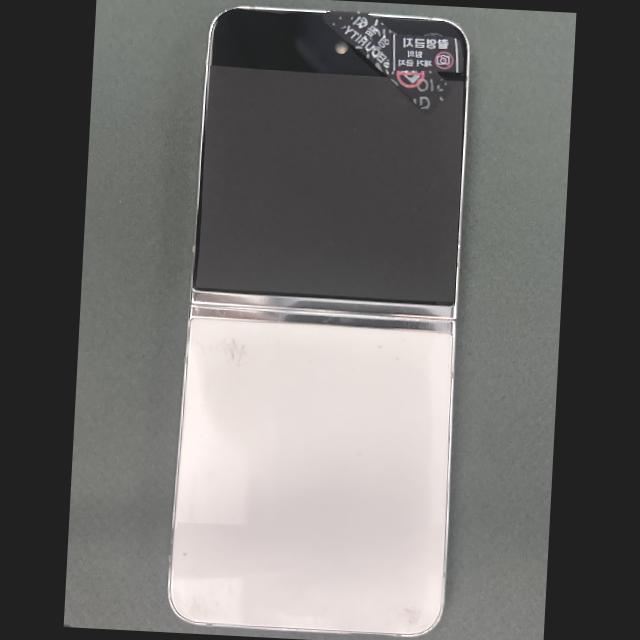phone: (168, 7, 467, 635)
sticker: (322, 11, 455, 114), (388, 34, 464, 73)
